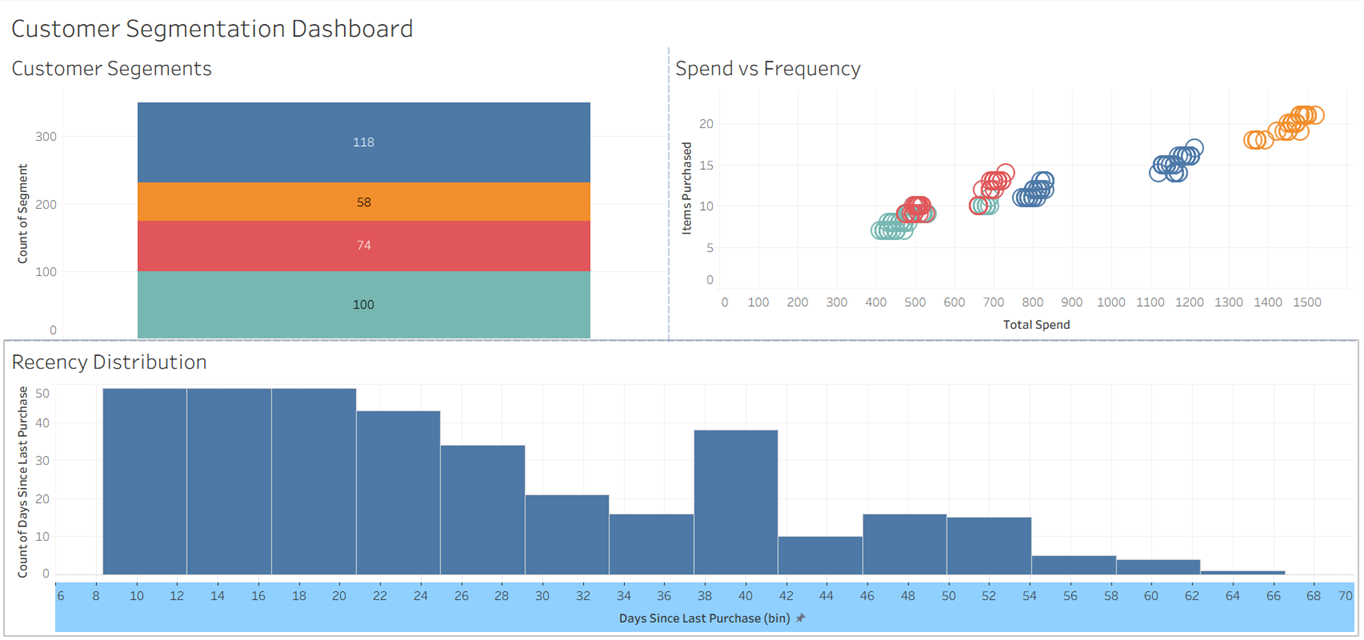

Layout of this report page (visuals, bound fields, positions):
{"tool":"tableau","page":{"name":"Customer Segmentation Dashboard","canvas":[1000,1000],"units":"permille","ordinal":0},"visuals":[{"type":"title","box":[4.7,10,990.6,62.4]},{"type":"worksheet","title":"Customer Segements","mark":"Automatic","rows":["Segment"],"box":[4.7,72.4,485.9,458.8]},{"type":"worksheet","title":"Spend vs Frequency","mark":"Automatic","rows":["Items Purchased"],"cols":["Total Spend"],"box":[490.6,72.4,504.7,458.8]},{"type":"worksheet","title":"Recency Distribution","mark":"Automatic","rows":["Days Since Last Purchase"],"cols":["Days Since Last Purchase (bin)"],"box":[4.7,531.2,990.6,458.8]}]}

Visuals, with their boxes on the dashboard's canvas, which has no fixed pixel size, in thousandths of its width and height (x1, y1, x2, y2). These are canvas units, not pixel positions in the 1364x640 screenshot, which may show the page scaled, cropped or inside an application window:
title: bbox(5, 10, 995, 72)
"Customer Segements" worksheet: bbox(5, 72, 491, 531)
"Spend vs Frequency" worksheet: bbox(491, 72, 995, 531)
"Recency Distribution" worksheet: bbox(5, 531, 995, 990)
